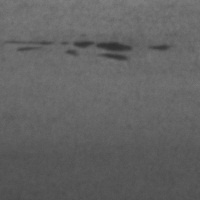inclusion: (1, 35, 135, 68), (147, 39, 177, 57)
